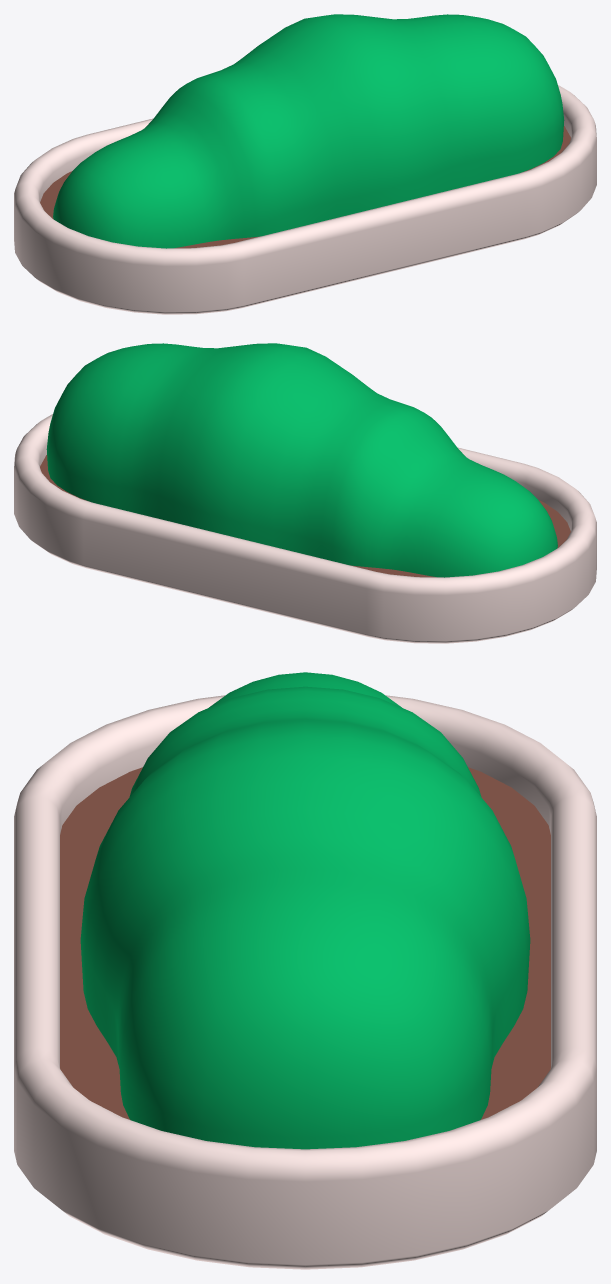
File: City_11_Bush_2.glb
3 views of the same model, one above another, from view 1: azimuth 30°, elevation 25°; view 2: azimuth 150°, elevation 25°; view 3: azimuth 270°, elevation 25° (orthographic). The views are drawn at different scales.
Visible parts, largest first — view 1: City_11_Bush_2; view 2: City_11_Bush_2; view 3: City_11_Bush_2.
Part boxes in pixels (box(x1,y1,x2,y2)): City_11_Bush_2: box(14, 14, 596, 314); City_11_Bush_2: box(14, 343, 596, 643); City_11_Bush_2: box(14, 672, 596, 1269).
Bounding box in the file's own units: 2.06 × 0.6585 × 1.06.
1 material, 1 textured.
